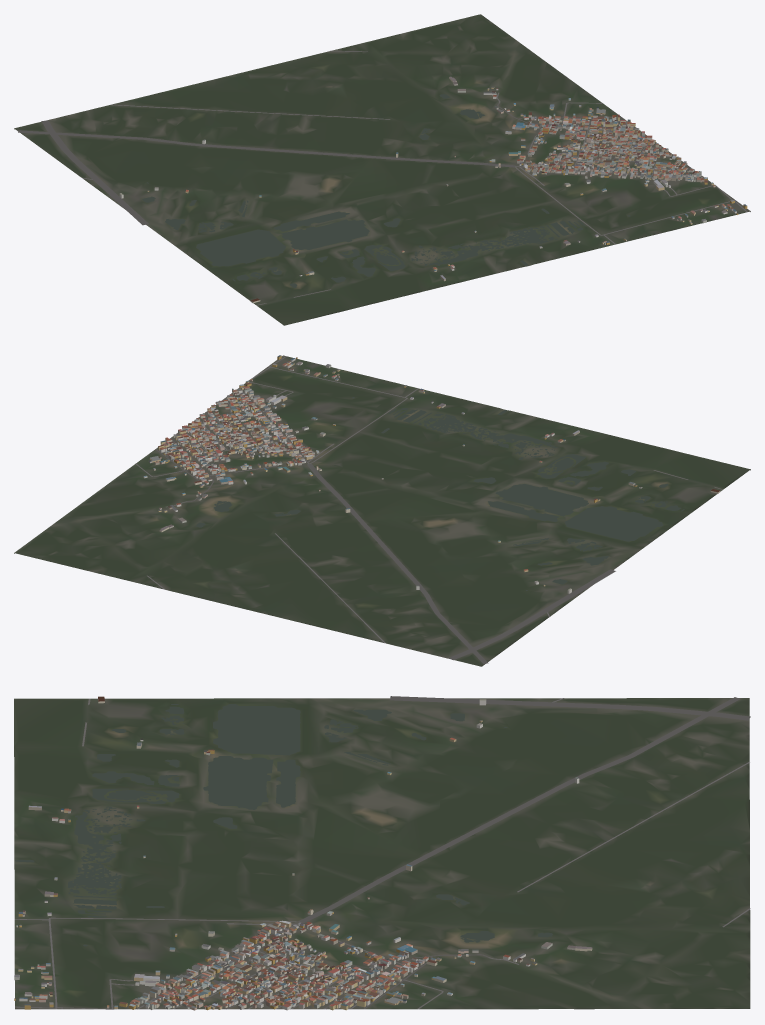
3 views of the same model, one above another, from view 1: azimuth 30°, elevation 25°; view 2: azimuth 150°, elevation 25°; view 3: azimuth 270°, elevation 25° (orthographic). The views are drawn at different scales.
Parts seen in each view (by area): view 1: ground, buildings, water, roads; view 2: ground, buildings, water, roads; view 3: ground, buildings, water, roads.
Boxes of the visible parts, x1,y1,x2,y2 form: ground: (14,14,750,325); buildings: (119,76,747,303); water: (142,94,630,287); roads: (18,50,747,305); ground: (14,355,750,666); buildings: (143,355,720,593); water: (195,397,684,590); roads: (135,356,723,663); ground: (14,698,750,1009); buildings: (14,696,592,1010); water: (15,704,552,946); roads: (14,696,750,1009).
Bounding box in the file's own units: 1417 × 14.79 × 1405.
